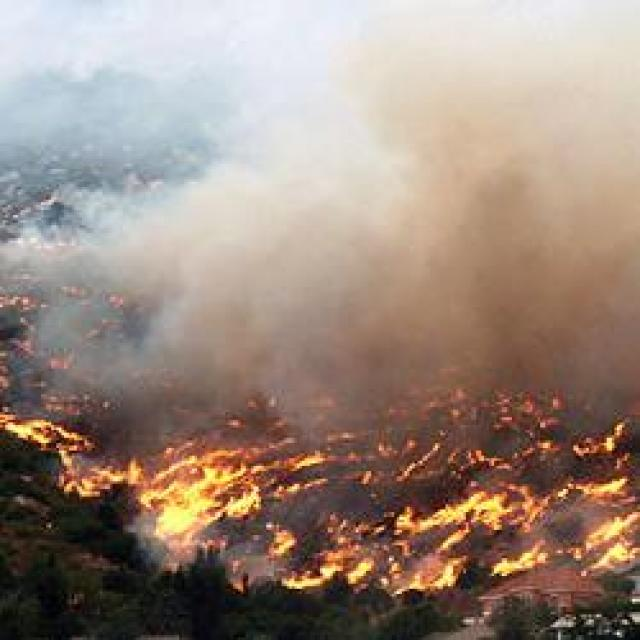fire: (140, 392, 640, 624), (2, 380, 136, 526)
